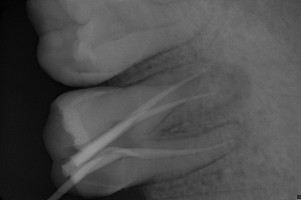Furcation Involvement: (204, 60, 251, 101)
